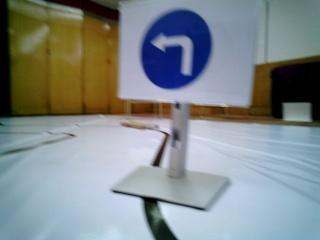left: (126, 1, 253, 107)
